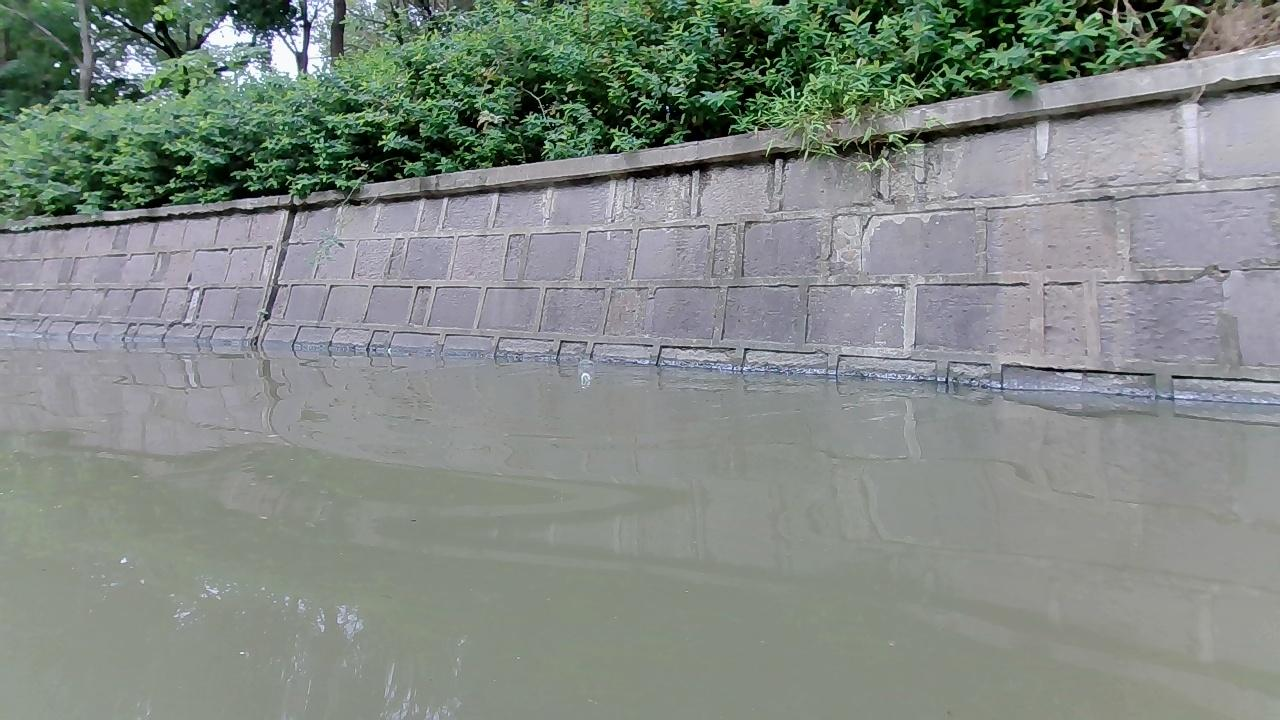bottle: (576, 358, 594, 381)
